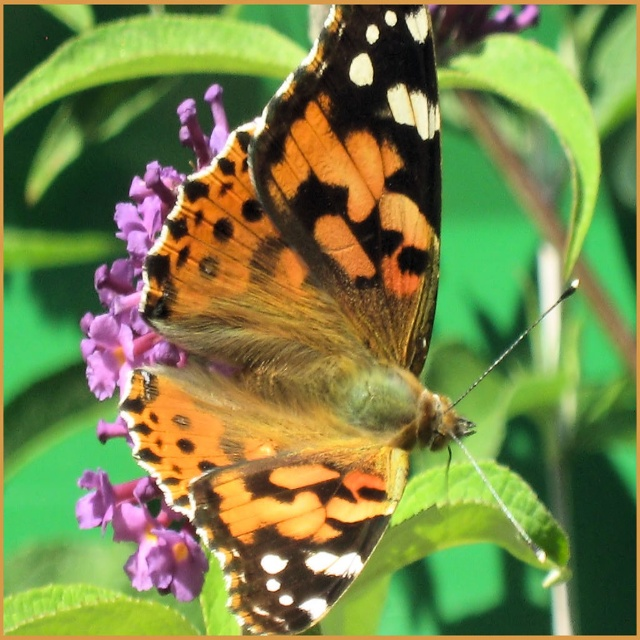Butterfly: (118, 0, 579, 639)
